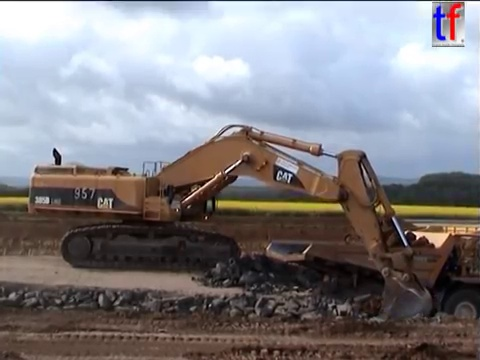excavator: (24, 119, 437, 338)
truck: (261, 221, 480, 338)
